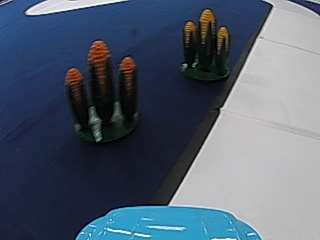corn: (67, 41, 141, 146), (179, 6, 232, 82)
